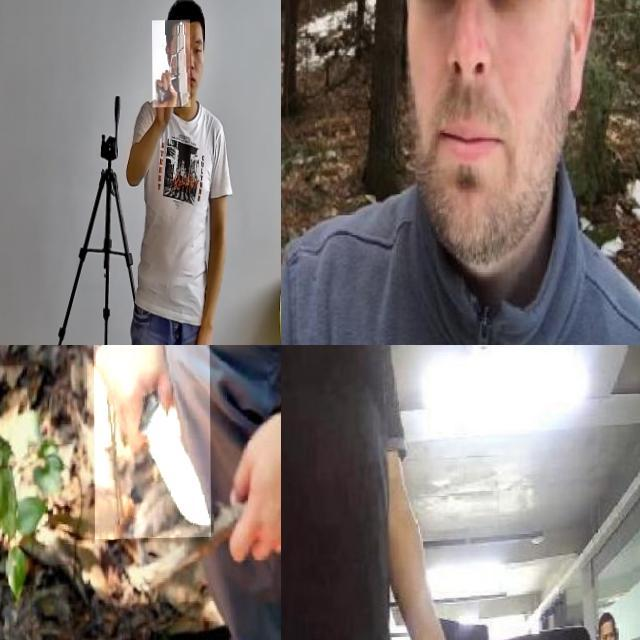-: (93, 345, 210, 540), (281, 0, 372, 244)
gun-knife-thesis - v11 Yolov5 augmented: (152, 21, 190, 109)
